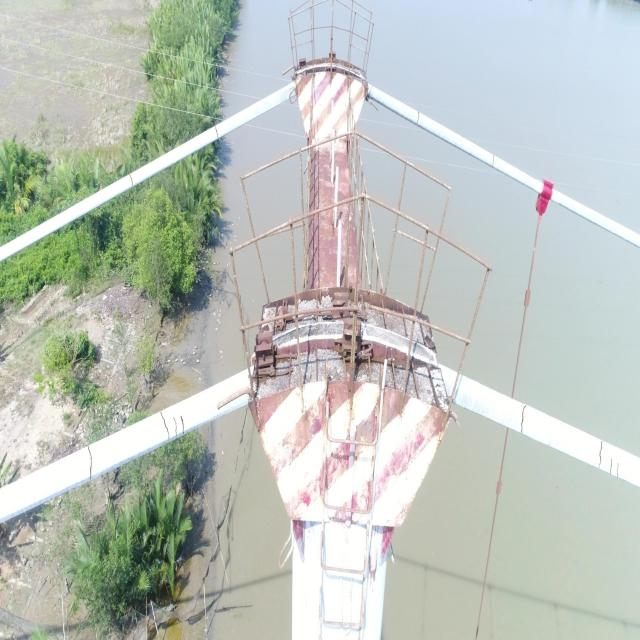crack: (159, 411, 170, 442), (87, 446, 93, 480), (521, 404, 527, 436), (599, 440, 603, 469), (128, 174, 134, 188), (180, 415, 184, 435), (173, 417, 177, 437), (214, 124, 219, 139), (416, 112, 419, 125), (610, 458, 612, 474), (617, 462, 619, 478), (492, 155, 494, 167)
